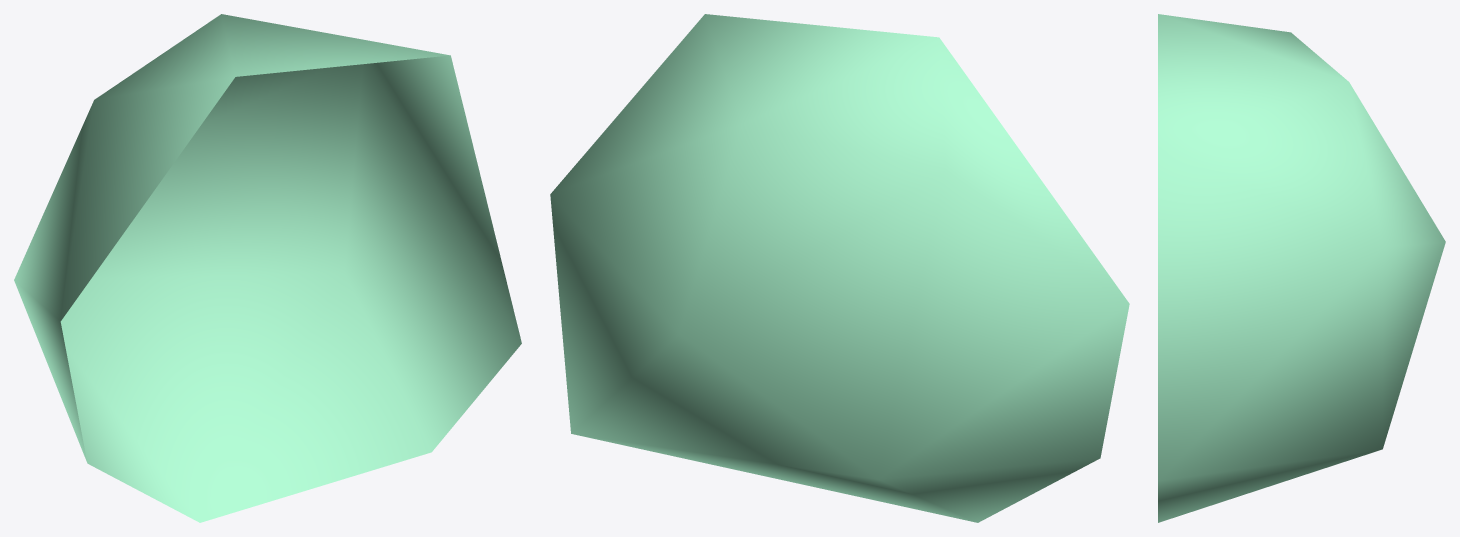
3 views of the same model, side by side, from view 1: azimuth 30°, elevation 25°; view 2: azimuth 150°, elevation 25°; view 3: azimuth 270°, elevation 25° (orthographic). The views are drawn at different scales.
Parts seen in each view (by area): view 1: Object07; view 2: Object07; view 3: Object07.
Boxes of the visible parts, x1,y1,x2,y2 form: Object07: (14,14,521,522); Object07: (550,14,1129,522); Object07: (1158,14,1445,522).
Bounding box in the file's own units: 8597 × 7789 × 4737.
